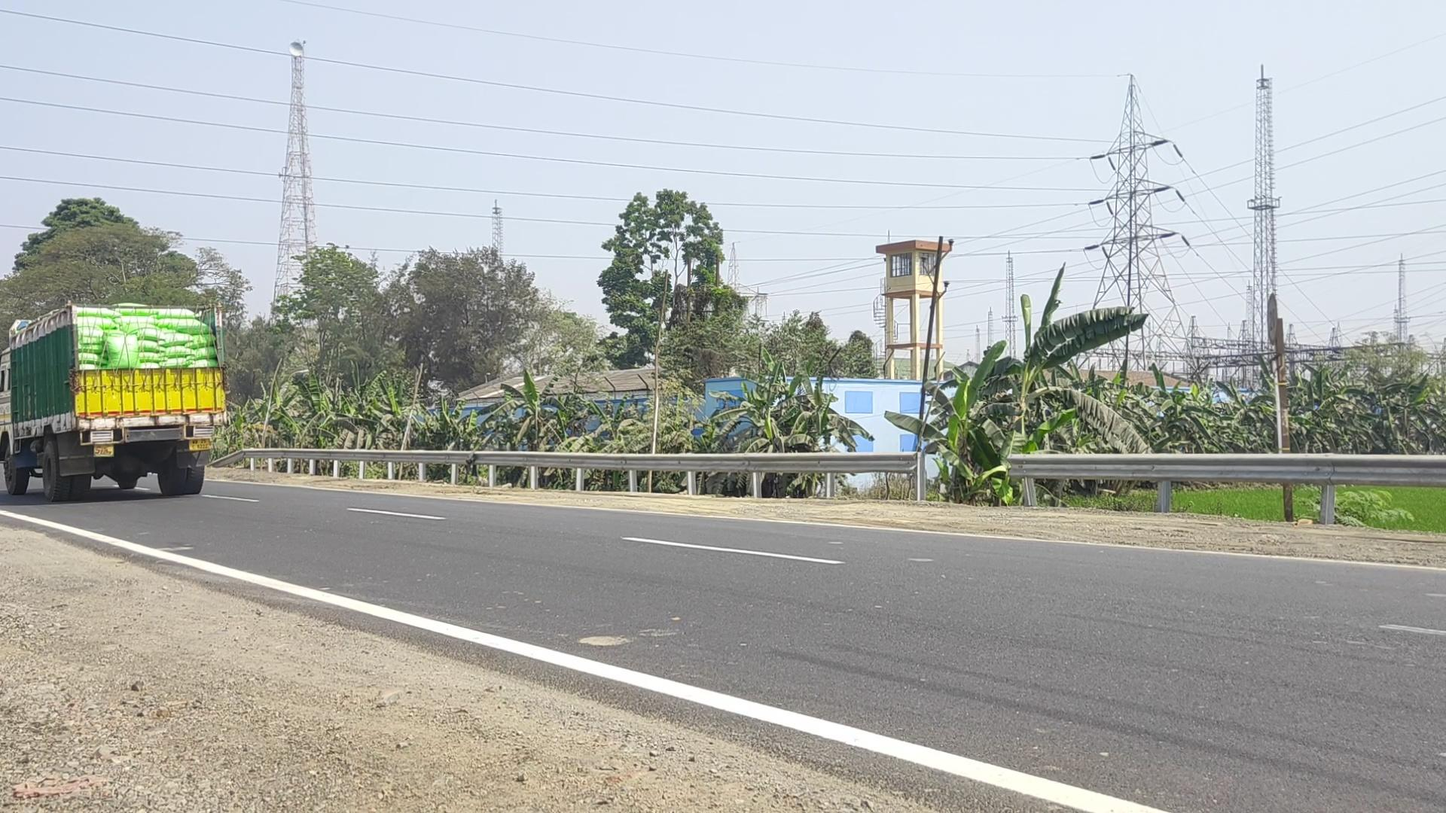truck: (1, 300, 227, 501)
